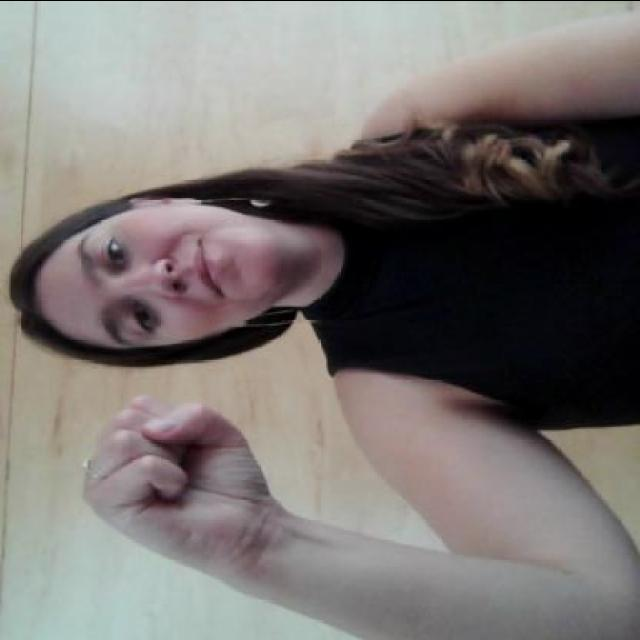Rock: (72, 391, 280, 563)
